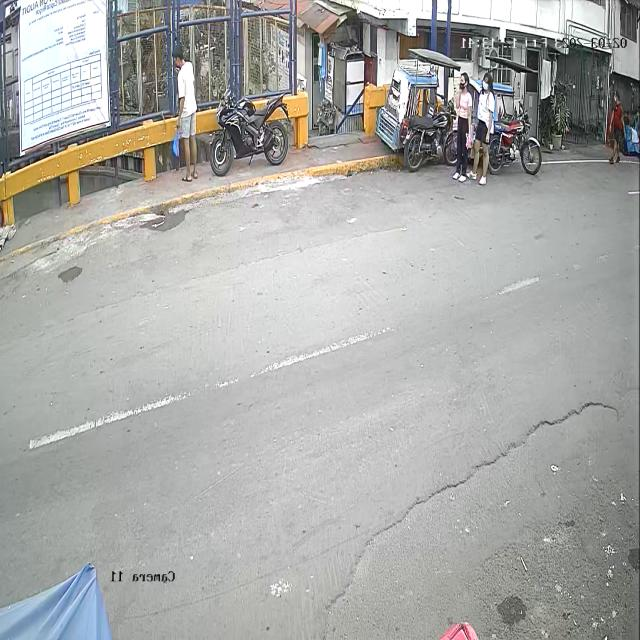human: (172, 46, 198, 182)
trash: (169, 117, 182, 159)
